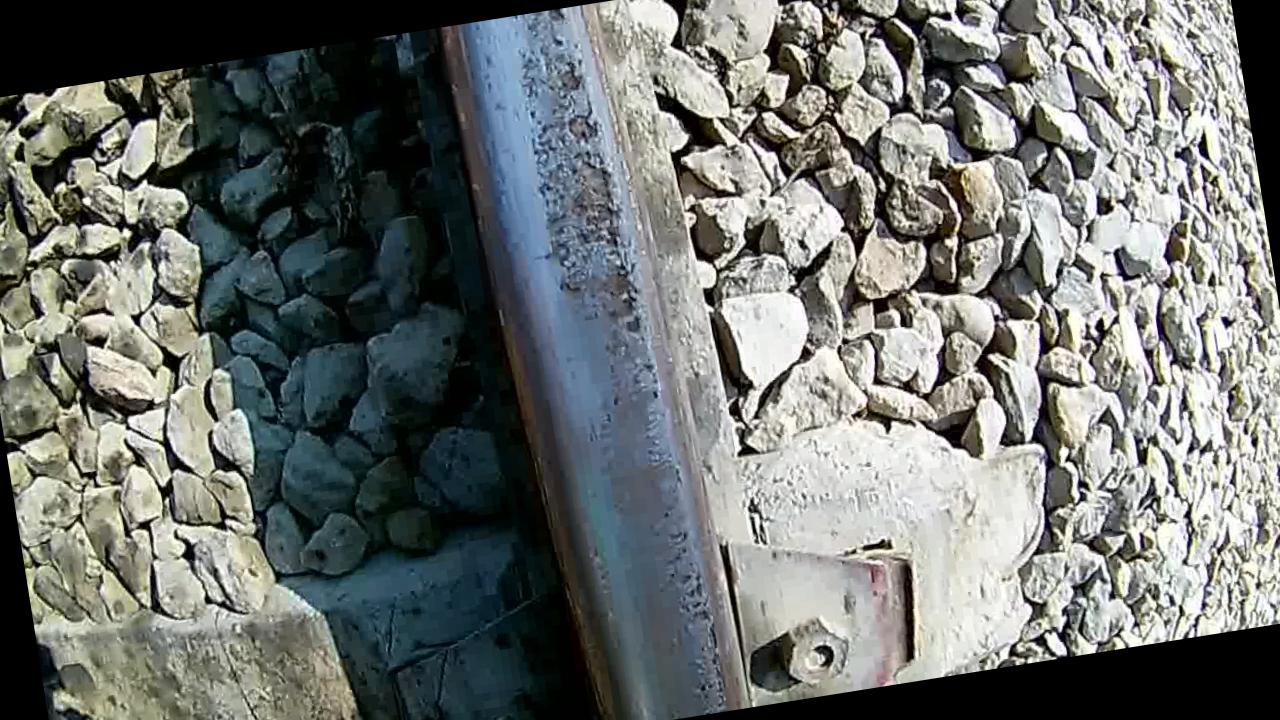crack: (450, 0, 738, 720)
